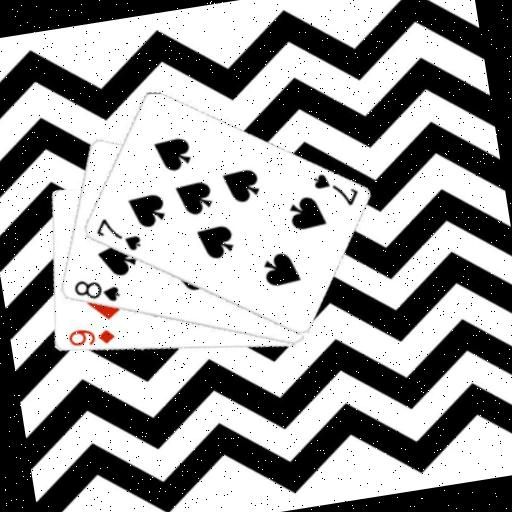7S: (90, 210, 144, 258), (308, 165, 361, 213)
8S: (69, 271, 122, 310)
9D: (64, 320, 117, 351)
